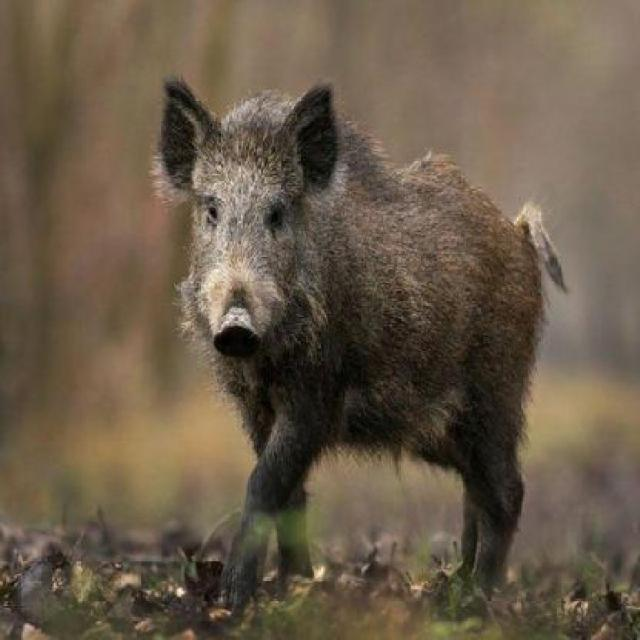wildboar: (152, 72, 566, 612)
